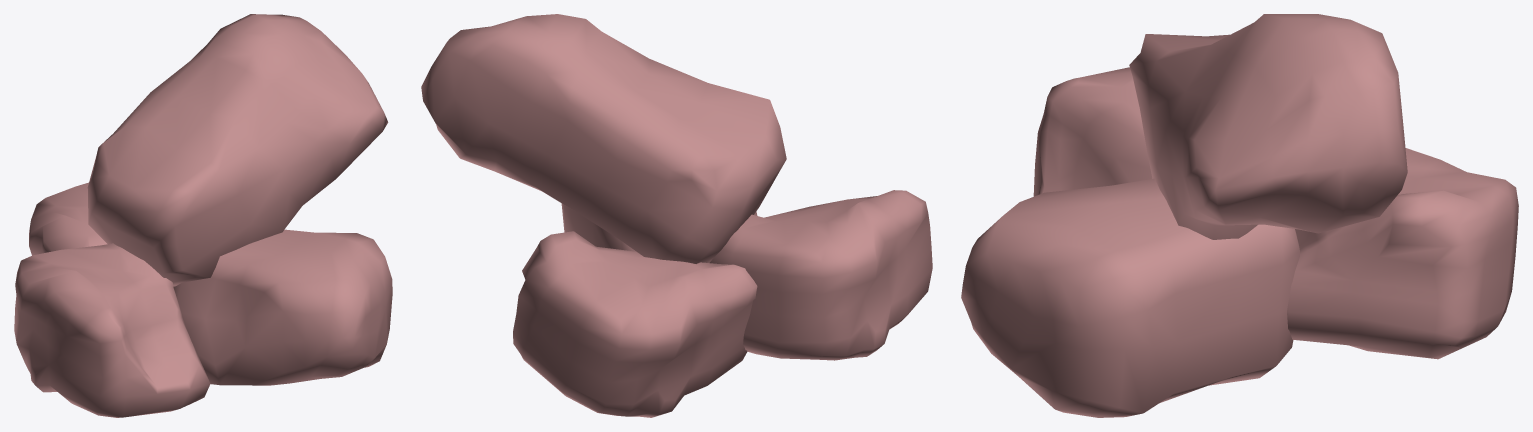
The model's file is Floor_Rock_Pile_01B_Lod0.fbx.
3 renders of one model, left to right at view 1: azimuth 30°, elevation 25°; view 2: azimuth 150°, elevation 25°; view 3: azimuth 270°, elevation 25°, orthographic. The views are drawn at different scales.
Parts seen in each view (by area): view 1: Floor_Rock_Pile_01B_Lod0; view 2: Floor_Rock_Pile_01B_Lod0; view 3: Floor_Rock_Pile_01B_Lod0.
Boxes of the visible parts, left/top/right/bottom form: Floor_Rock_Pile_01B_Lod0: left=14, top=14, right=392, bottom=417; Floor_Rock_Pile_01B_Lod0: left=421, top=14, right=932, bottom=417; Floor_Rock_Pile_01B_Lod0: left=961, top=14, right=1518, bottom=417.
Size of the model in its own units: 199 by 153 by 192.
